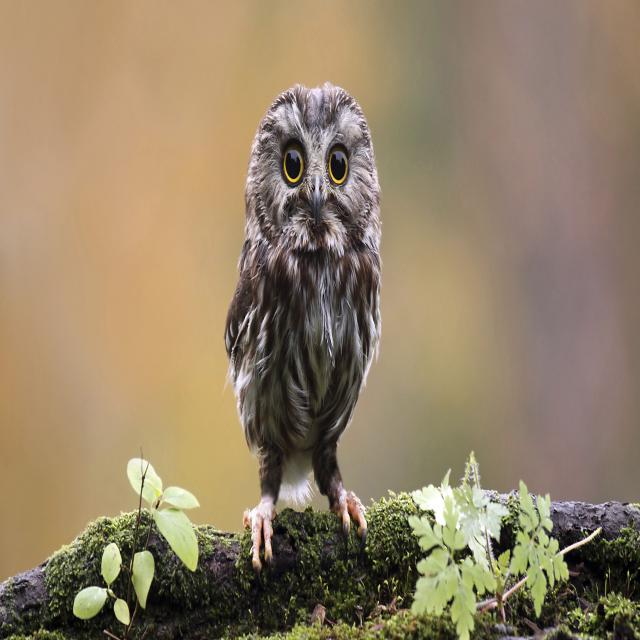Owl: (222, 80, 397, 571)
